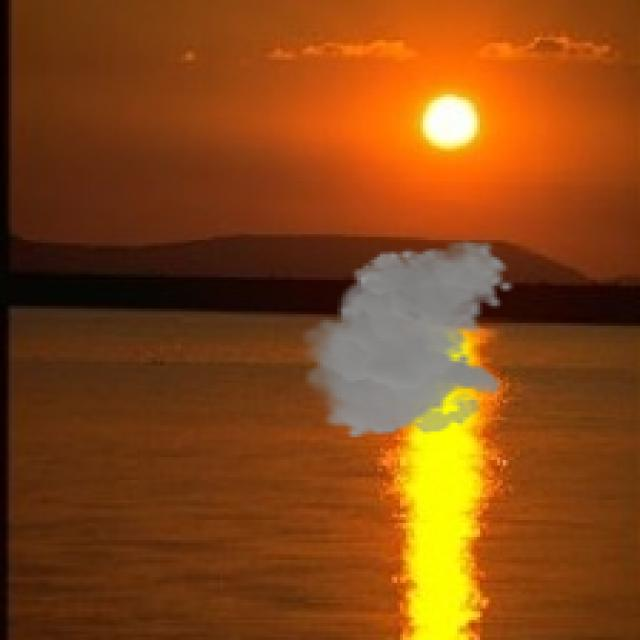smoke: (294, 240, 514, 440)
